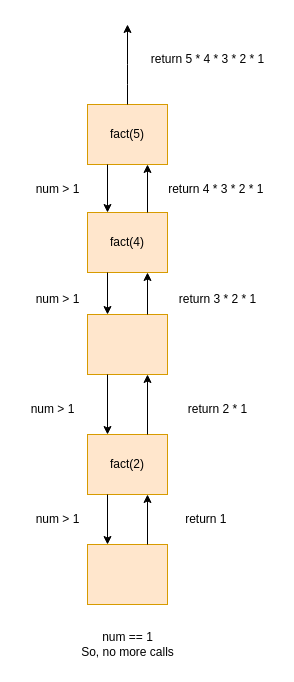
The diagram is 294 pixels wide and 682 high, and some of its shapes have lost their labels. Each missing label, with the centre of its shape:
"fact(1)" belongs at pixel 127 574.
"fact(3)" belongs at pixel 127 344.
